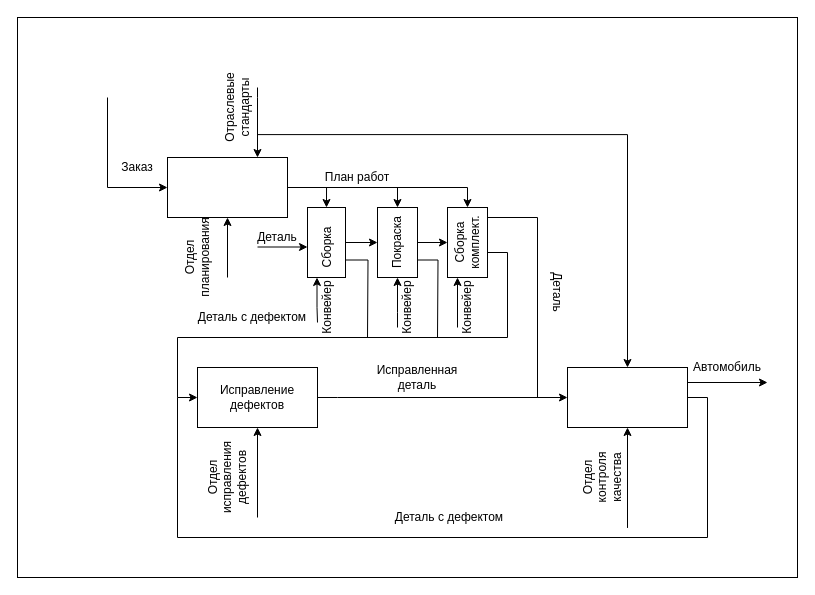
Some shapes in this 815 by 595 pixel diagram are drawn without their labels. Each missing label, with the centre of its shape:
Планирование: point (227, 187)
Тестирование: point (627, 397)
